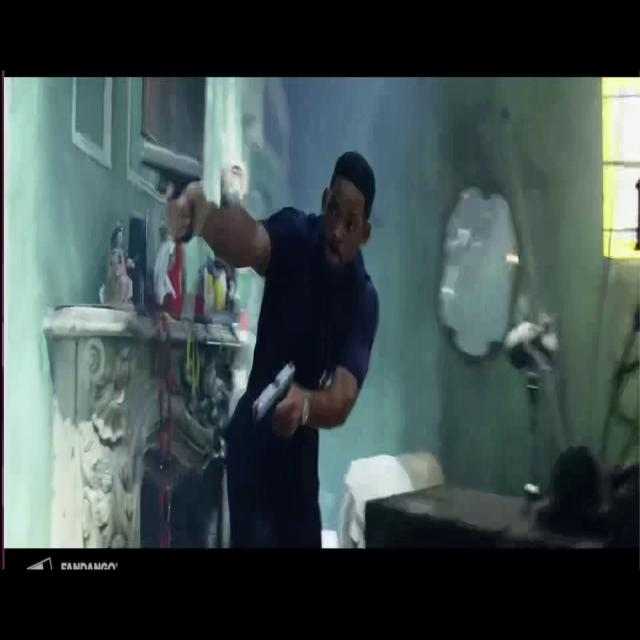weapons: (127, 116, 210, 236), (246, 324, 308, 438)
